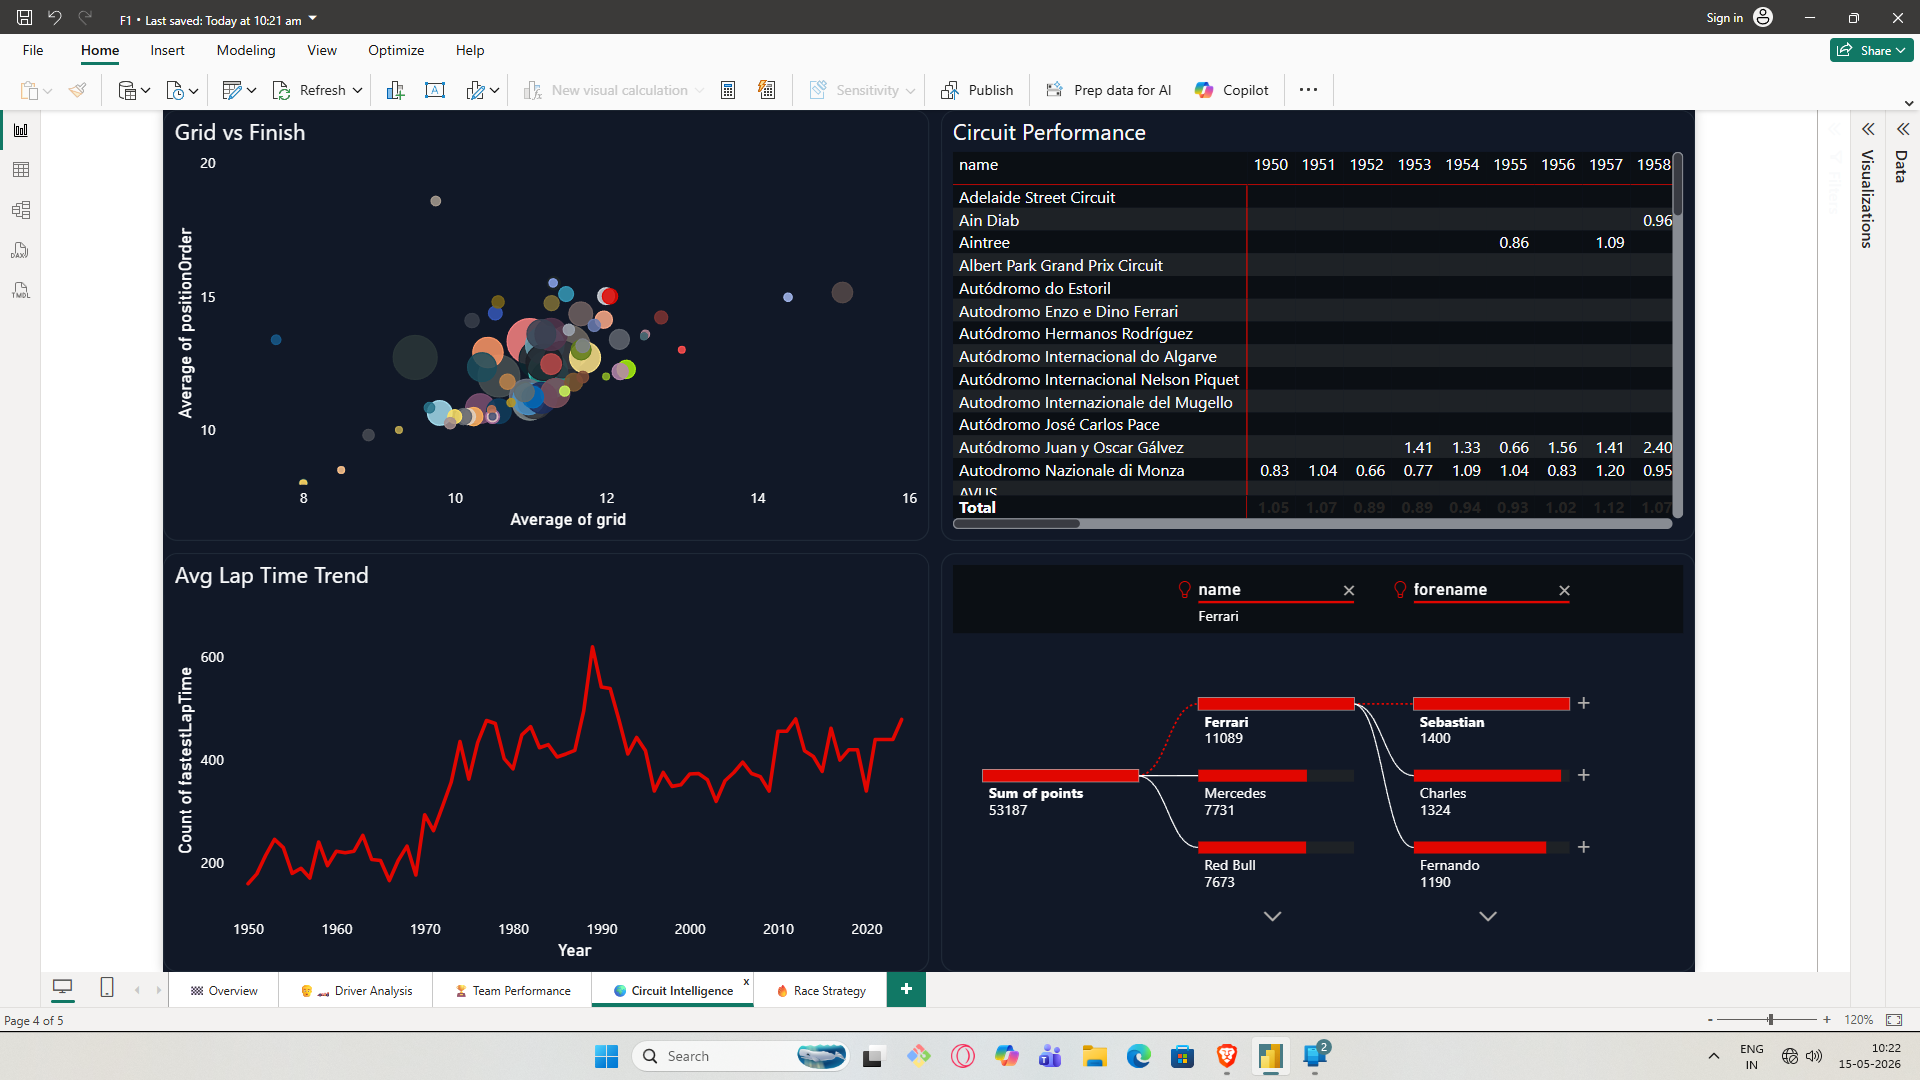

This screenshot's page, from the dashboard's own definition file:
{"tool":"powerbi","page":{"name":"🌍 Circuit Intelligence","canvas":[1280,720],"ordinal":3},"visuals":[{"type":"scatterChart","title":"Grid vs Finish","fields":{"X":["Avg(results.grid)"],"Y":["Avg(results.positionOrder)"],"Size":["Sum(results.points)"],"Category":["circuits.name"],"Series":["circuits.name"]},"box":[0,0,640,359.9],"z":0},{"type":"lineChart","title":"Avg Lap Time Trend","fields":{"Category":["races.date.Variation.Date Hierarchy.Year"],"Y":["CountNonNull(results.fastestLapTime)"]},"box":[0,370,640,350],"z":1000},{"type":"pivotTable","title":"Circuit Performance","fields":{"Rows":["circuits.name"],"Columns":["races.date.Variation.Date Hierarchy.Year"],"Values":["results.Avg Points"]},"box":[650,0,630,360],"z":2000},{"type":"decompositionTreeVisual","fields":{"Analyze":["Sum(results.points)"],"ExplainBy":["constructors.name","drivers.forename","circuits.name"]},"box":[650,370,630,350],"z":3000}]}

Visuals, with their boxes on the page's 1280x720 design canvas (x1, y1, x2, y2). These are canvas units, not pixel positions in the 1920x1080 screenshot, which may show the page scaled, cropped or inside an application window:
"Grid vs Finish" scatterChart: 0 0 640 360
"Avg Lap Time Trend" lineChart: 0 370 640 720
"Circuit Performance" pivotTable: 650 0 1280 360
decompositionTreeVisual - Sum(results.points) x constructors.name: 650 370 1280 720
